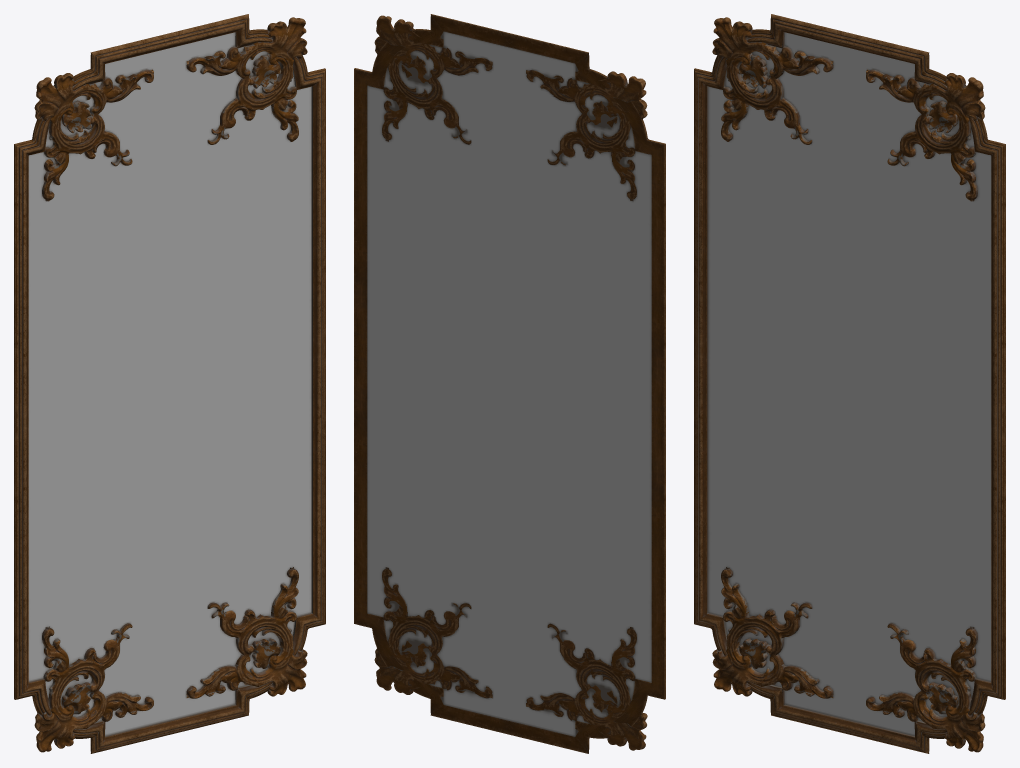
The picture shows the model from 3 angles, left to right: view 1: azimuth 30°, elevation 25°; view 2: azimuth 150°, elevation 25°; view 3: azimuth 330°, elevation 25°; orthographic projection.
Parts seen in each view (by area): view 1: Polygon; view 2: Polygon; view 3: Polygon.
Part boxes in pixels (x1,y1,x2,y2): Polygon: (14, 14, 325, 753); Polygon: (354, 14, 665, 753); Polygon: (694, 14, 1005, 753).
Bounding box in the file's own units: 82.88 × 179 × 2.28.
Materials: 1 (1 with a texture image).
